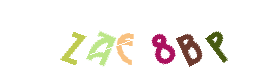8: (99, 0, 179, 80)
A: (67, 0, 147, 80)
B: (122, 0, 202, 80)
E: (95, 0, 175, 80)
P: (160, 0, 240, 80)
Z: (44, 0, 124, 80)
